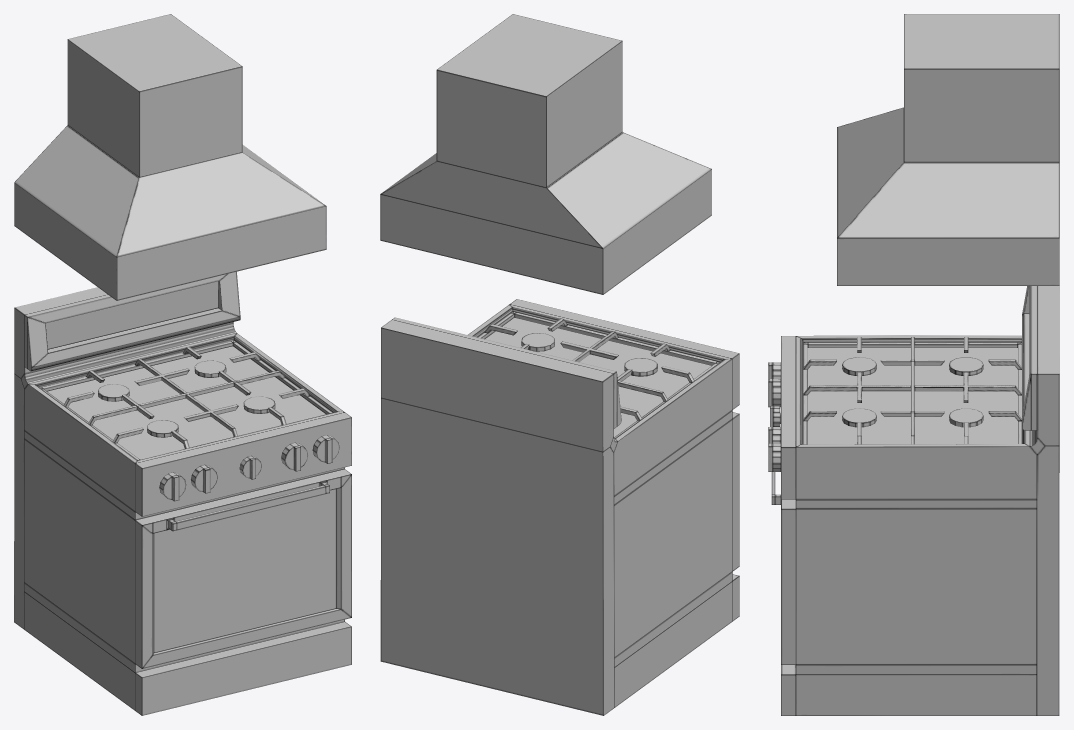
File: Stove Model.fbx
3 renders of one model, left to right at view 1: azimuth 30°, elevation 25°; view 2: azimuth 150°, elevation 25°; view 3: azimuth 270°, elevation 25°, orthographic. The views are drawn at different scales.
Parts seen in each view (by area): view 1: Stove Model, Cube.009, Cube.004, Cylinder, Cylinder.001, Cylinder.003, Cylinder.004; view 2: Stove Model, Cube.009, Cube.004; view 3: Stove Model, Cube.009, Cube.004, Cylinder.006, Cylinder.007, Cylinder.008, Cylinder.009.
Boxes of the visible parts, bbox=[...] form: Stove Model: bbox=[14, 271, 351, 715]; Cube.009: bbox=[14, 14, 326, 300]; Cube.004: bbox=[40, 340, 332, 460]; Cylinder: bbox=[159, 472, 186, 501]; Cylinder.001: bbox=[191, 464, 217, 493]; Cylinder.003: bbox=[312, 435, 339, 463]; Cylinder.004: bbox=[281, 442, 307, 471]; Stove Model: bbox=[380, 299, 739, 715]; Cube.009: bbox=[380, 14, 711, 294]; Cube.004: bbox=[478, 311, 719, 438]; Stove Model: bbox=[771, 286, 1059, 715]; Cube.009: bbox=[837, 14, 1059, 285]; Cube.004: bbox=[803, 337, 1022, 444]; Cylinder.006: bbox=[842, 408, 876, 427]; Cylinder.007: bbox=[949, 357, 983, 375]; Cylinder.008: bbox=[949, 408, 983, 427]; Cylinder.009: bbox=[842, 357, 876, 375].
Size of the model in its own units: 91.13 by 236 by 101.
1 material, 1 textured.
